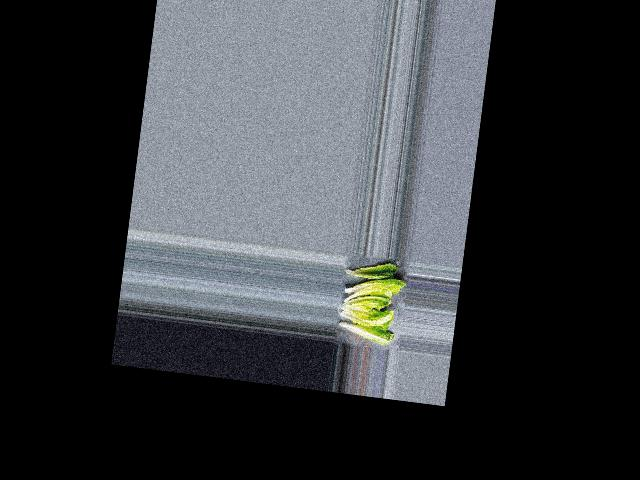lettuce: (343, 259, 398, 283)
